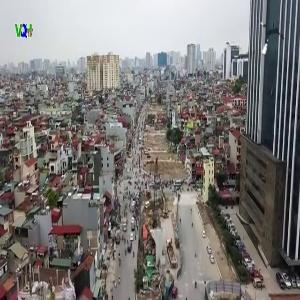drone: (255, 19, 295, 59)
